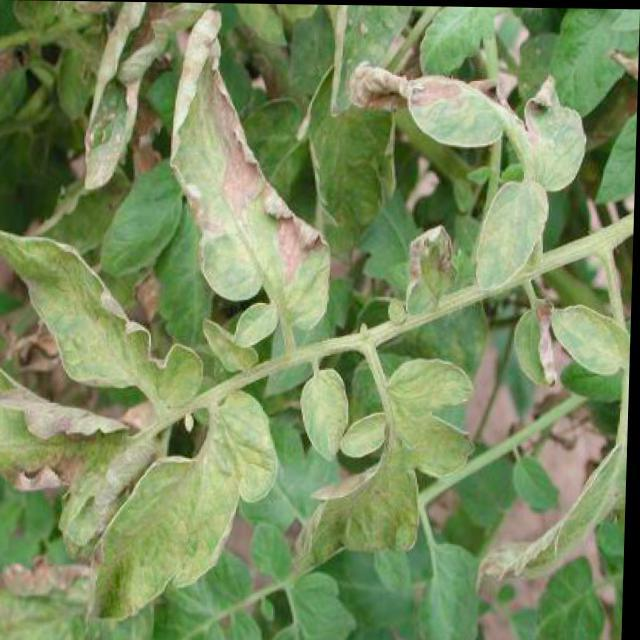Tomato mold leaf: (162, 4, 342, 332), (87, 381, 286, 629), (0, 220, 214, 412), (350, 48, 598, 180), (468, 176, 558, 299), (549, 304, 631, 385), (300, 362, 363, 462), (402, 220, 462, 320), (338, 408, 404, 462)
